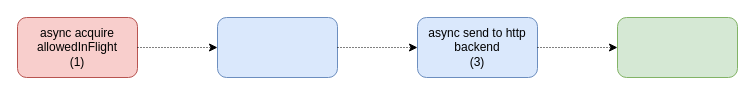
Image size: 755x95. Some labels were removed from this diagram. The shapes that lost their labels are listed below. From the top down, each one's centre as x and y in pixels, then its label:
point 277,47: poll oldest batch (2)
point 677,47: release allowedInFlight (4)
